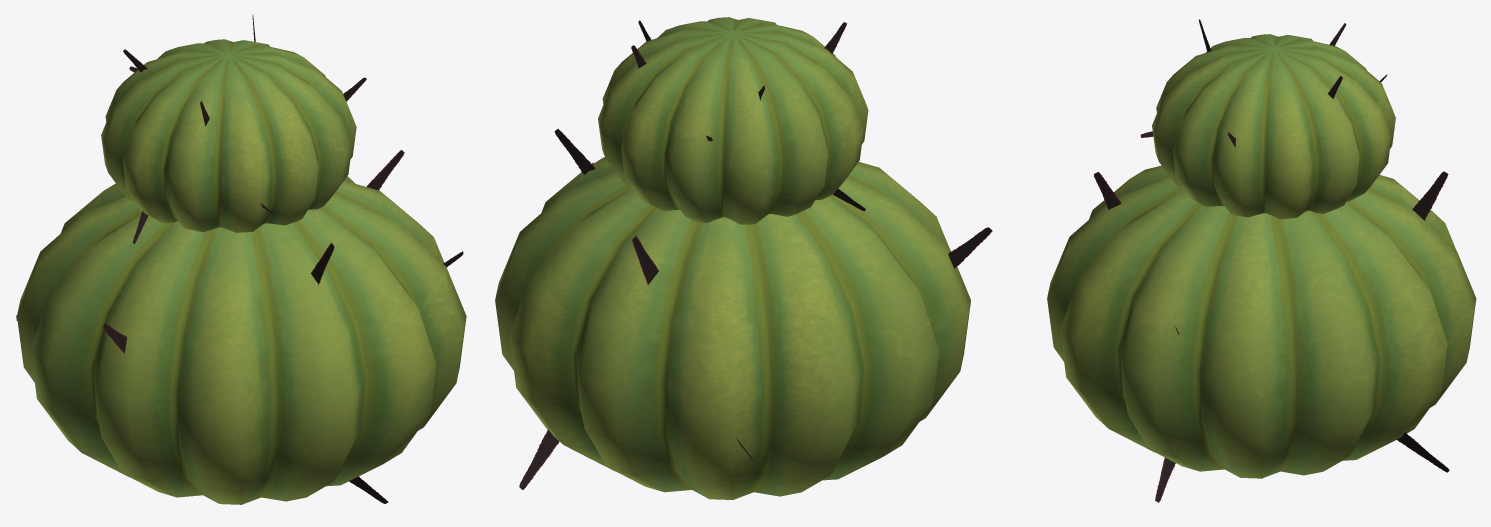
The model's file is acactus1.fbx.
3 renders of one model, left to right at view 1: azimuth 30°, elevation 25°; view 2: azimuth 150°, elevation 25°; view 3: azimuth 270°, elevation 25°, orthographic. The views are drawn at different scales.
Parts seen in each view (by area): view 1: 1, 1ci; view 2: 1, 1ci; view 3: 1, 1ci.
Part boxes in pixels (box(x1,y1,x2,y2)): 1: box(17, 39, 466, 504); 1ci: box(16, 14, 463, 503); 1: box(495, 17, 970, 499); 1ci: box(519, 20, 992, 489); 1: box(1047, 34, 1476, 478); 1ci: box(1094, 19, 1449, 502).
Bounding box in the file's own units: 214 × 205 × 227.
